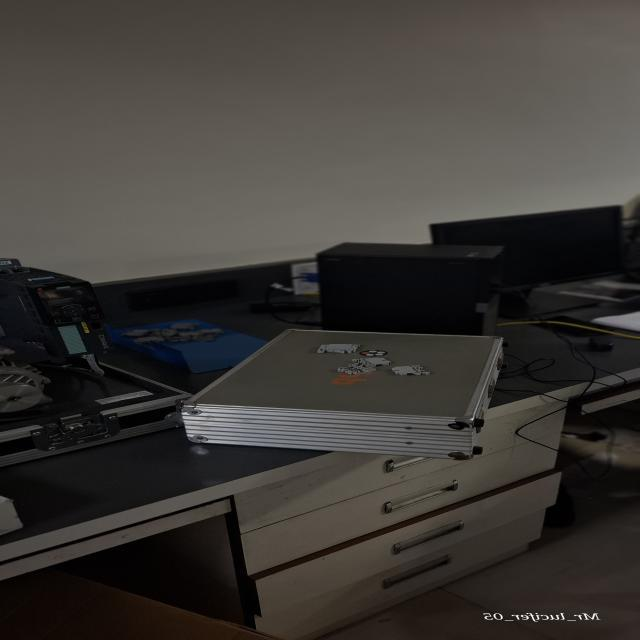Inverted: (389, 364, 431, 378), (354, 357, 388, 368)
